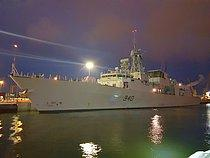MIL_Ship: (9, 44, 204, 112)
